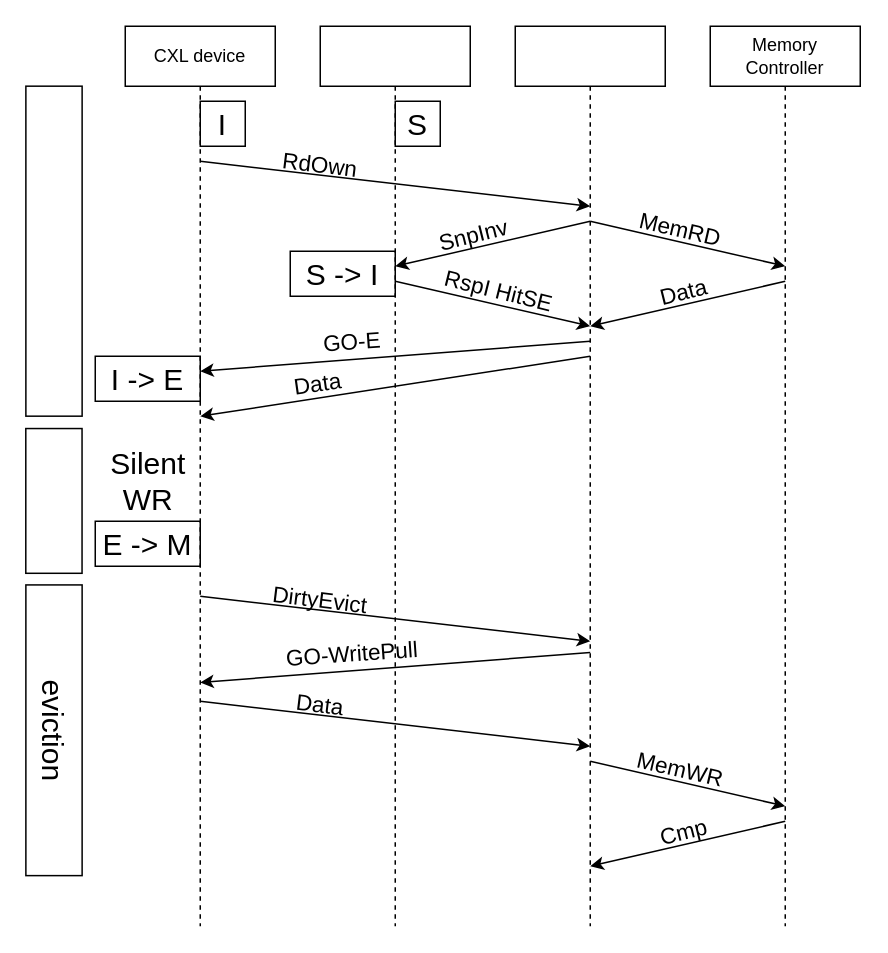
Image size: 888x953. Some labels were removed from this diagram. Each missing label, with the box of its shape:
Home Agent: (514, 25, 665, 926)
ownership: (24, 85, 82, 416)
Peer Cache: (319, 25, 470, 926)
write: (24, 427, 82, 573)
